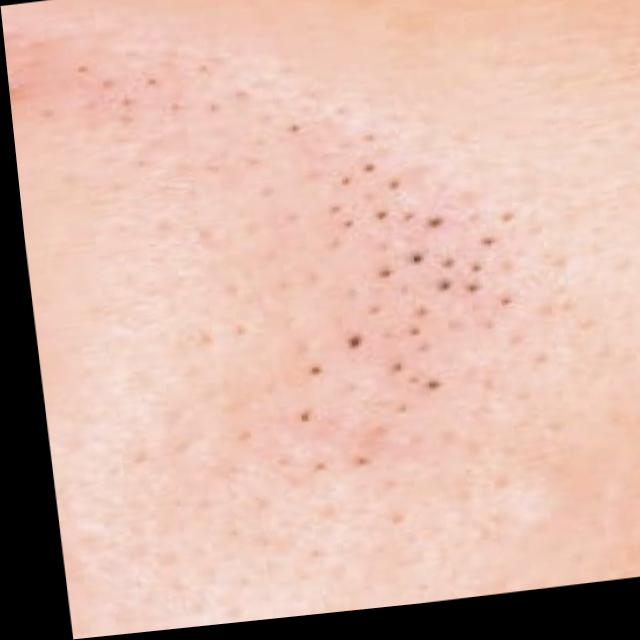blackhead: (255, 133, 525, 498)
